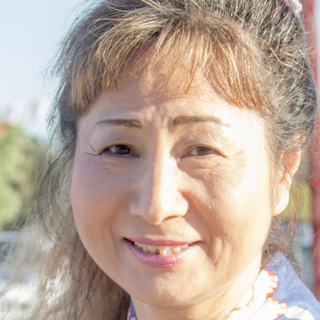eye: (94, 139, 143, 163), (176, 143, 225, 164)
